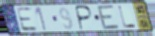1: (34, 6, 48, 33)
9: (59, 6, 75, 31)
E: (96, 4, 121, 31), (15, 6, 39, 32)
L: (117, 5, 137, 29)
P: (75, 5, 94, 32)
